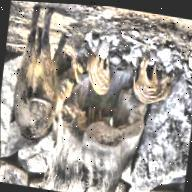boar: (0, 7, 72, 161), (123, 48, 181, 118), (80, 46, 109, 102)
